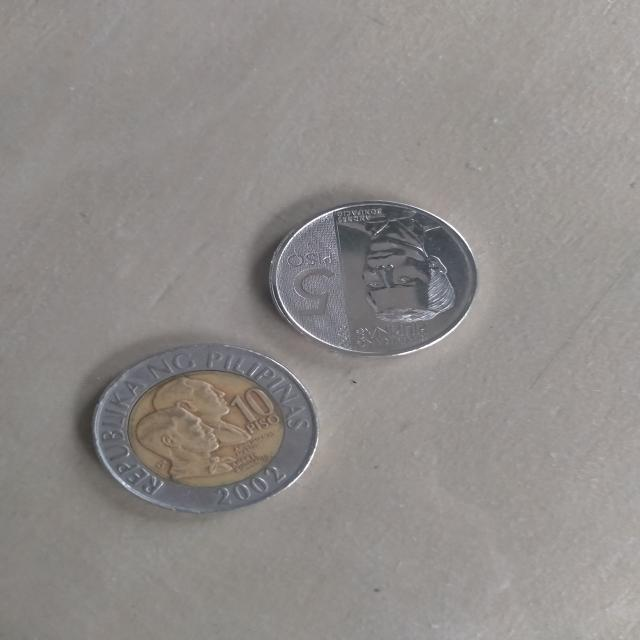10_Old_Front: (108, 350, 295, 502)
5_New_Front: (289, 216, 454, 343)
